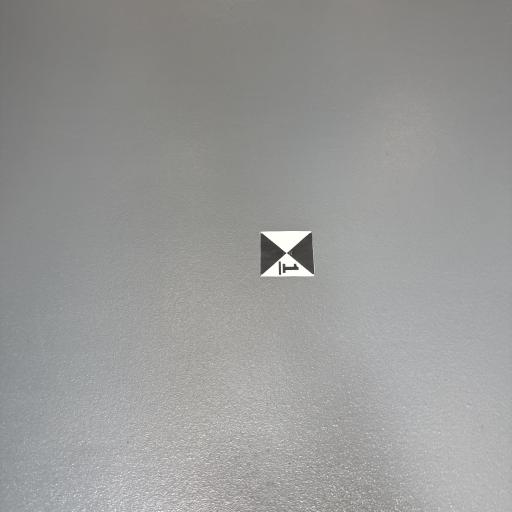target1: (261, 227, 319, 282)
